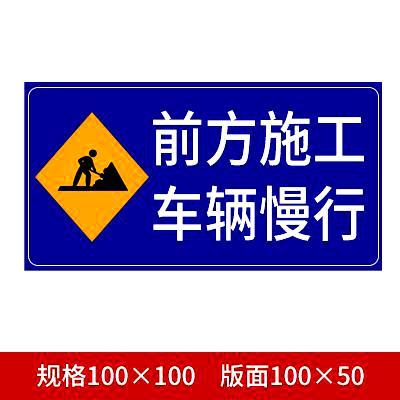sign: (26, 85, 379, 265)
